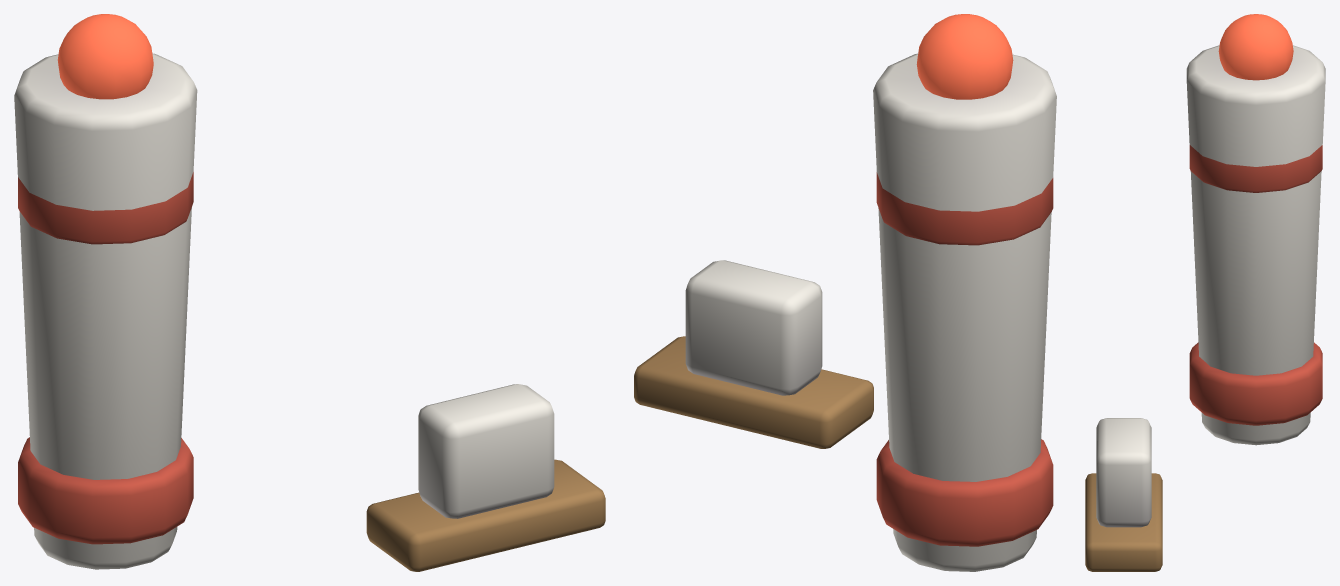
3 renders of one model, left to right at view 1: azimuth 30°, elevation 25°; view 2: azimuth 150°, elevation 25°; view 3: azimuth 270°, elevation 25°, orthographic. The views are drawn at different scales.
Visible parts, largest first — view 1: landmark_efa89257; view 2: landmark_efa89257; view 3: landmark_efa89257.
Boxes of the visible parts, x1,y1,x2,y2 form: landmark_efa89257: (14, 14, 605, 571); landmark_efa89257: (634, 14, 1056, 571); landmark_efa89257: (1085, 14, 1325, 571).
Size of the model in its own units: 3.85 by 4.09 by 2.18.
